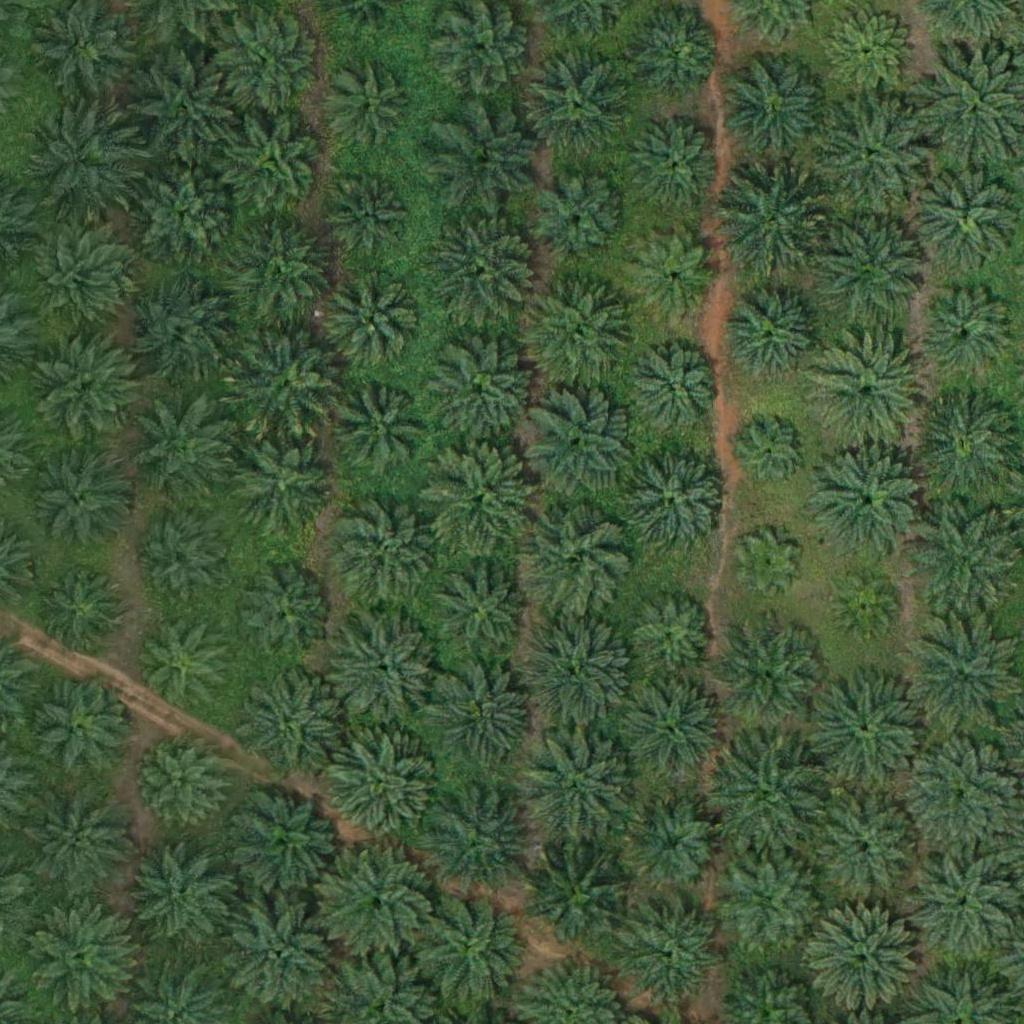Kelapa_Sawit: (720, 53, 833, 167), (712, 166, 825, 280), (525, 840, 638, 954), (233, 665, 346, 779), (28, 332, 141, 446), (410, 892, 523, 1006), (429, 218, 542, 331), (424, 337, 537, 450), (718, 275, 831, 388), (810, 337, 923, 450), (903, 614, 1016, 727), (907, 737, 1020, 850), (812, 448, 925, 561), (809, 674, 922, 787), (517, 503, 630, 616), (521, 616, 634, 729), (522, 731, 635, 844), (422, 441, 535, 554), (424, 561, 537, 674), (225, 786, 338, 899), (23, 672, 136, 785), (224, 901, 337, 1014), (809, 904, 922, 1017), (902, 849, 1015, 962), (818, 98, 930, 212), (815, 210, 927, 324), (909, 390, 1021, 504), (420, 780, 532, 894), (330, 611, 442, 725), (326, 732, 438, 846), (126, 396, 238, 510), (24, 108, 136, 221), (129, 55, 241, 168), (126, 273, 238, 386), (230, 225, 342, 338), (429, 97, 541, 210), (522, 44, 634, 157), (519, 275, 631, 388), (809, 793, 921, 906), (713, 620, 825, 733), (712, 742, 824, 855), (621, 447, 733, 560), (615, 678, 727, 791), (521, 388, 633, 501), (425, 663, 537, 776), (331, 495, 443, 608), (227, 329, 339, 442), (26, 785, 138, 898), (24, 900, 136, 1013), (321, 847, 433, 960), (136, 168, 236, 269), (225, 13, 325, 114), (223, 110, 323, 211), (322, 270, 422, 371), (528, 164, 628, 265), (623, 795, 723, 896), (328, 379, 428, 480), (132, 842, 232, 943), (723, 850, 823, 951), (32, 229, 132, 329), (625, 2, 725, 102), (625, 116, 725, 216), (231, 438, 331, 538), (232, 568, 332, 668), (131, 611, 231, 711), (28, 453, 128, 553), (626, 900, 726, 1000), (630, 348, 718, 436), (824, 7, 912, 95), (627, 588, 715, 676), (325, 173, 412, 262), (328, 60, 415, 148), (630, 232, 717, 320), (133, 519, 220, 607), (140, 738, 227, 826), (31, 566, 118, 654), (833, 575, 896, 638), (741, 421, 804, 484), (736, 532, 799, 595)
